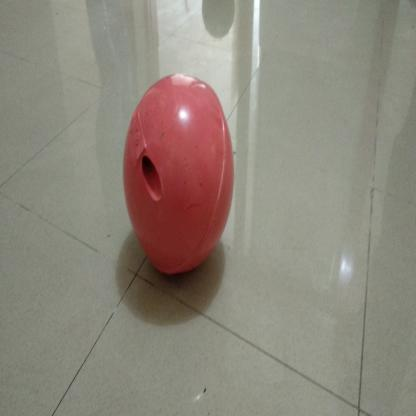red_buoy: (121, 69, 238, 288)
